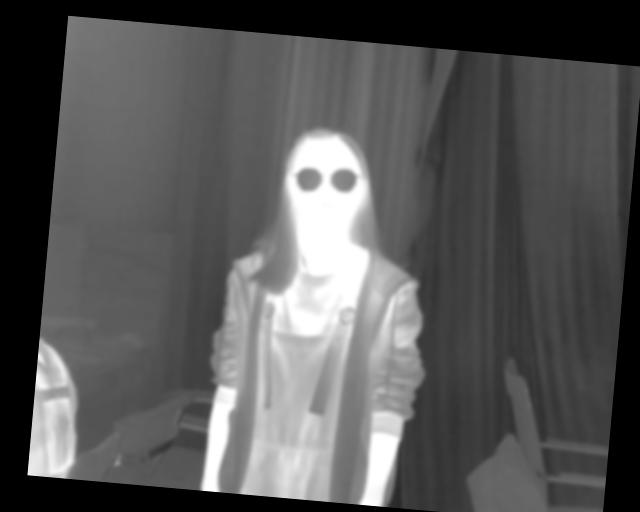face: (283, 124, 371, 234)
